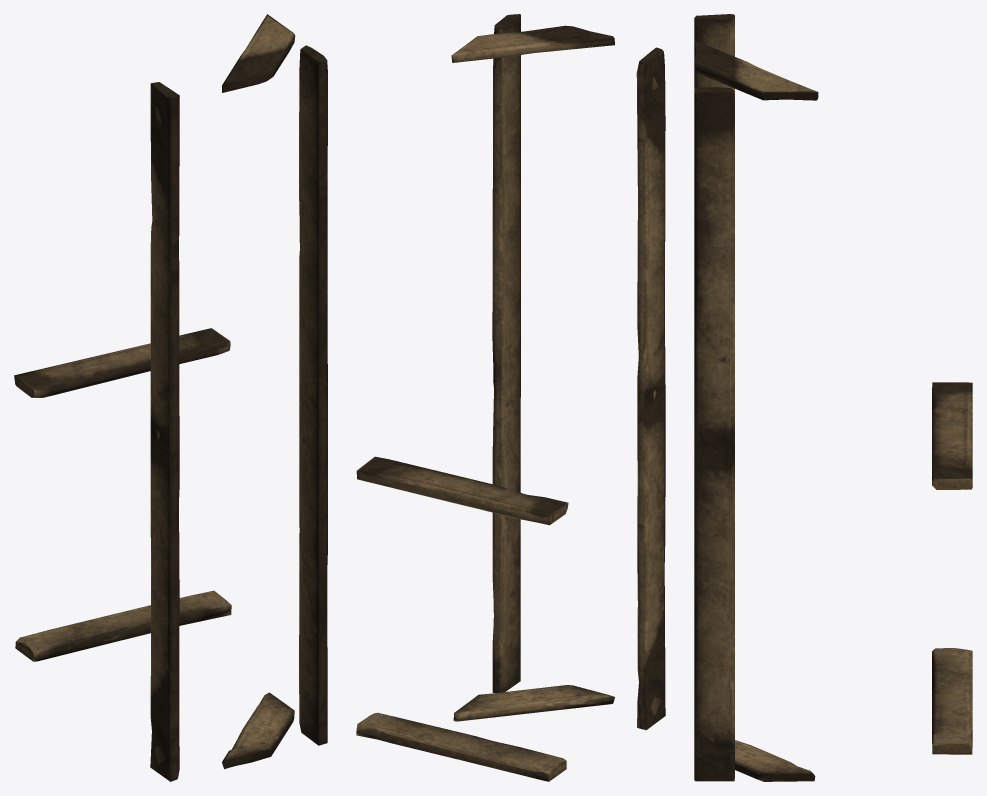
Rendered from Workbench_Group_3_low.obj.
The picture shows the model from 3 angles, left to right: view 1: azimuth 30°, elevation 25°; view 2: azimuth 150°, elevation 25°; view 3: azimuth 270°, elevation 25°; orthographic projection. The views are drawn at different scales.
Bounding box in the file's own units: 0.5766 × 1.9 × 0.6946.
1 material, 1 textured.
